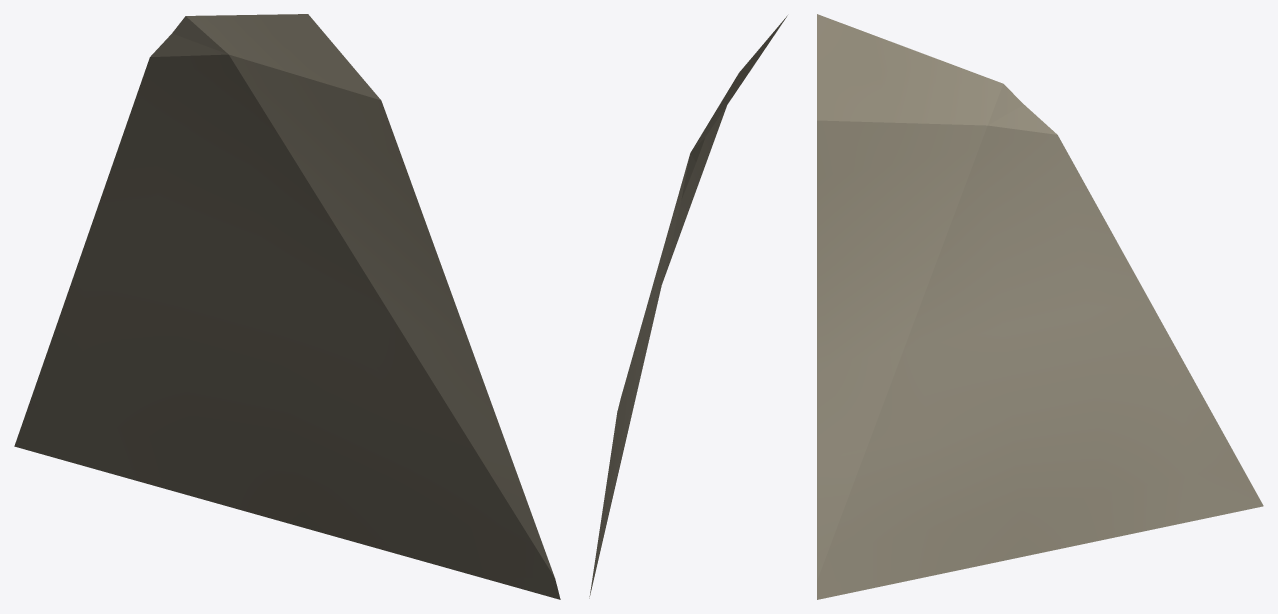
3 renders of one model, left to right at view 1: azimuth 30°, elevation 25°; view 2: azimuth 150°, elevation 25°; view 3: azimuth 270°, elevation 25°, orthographic. The views are drawn at different scales.
Bounding box in the file's own units: 0.054 × 0.1324 × 0.1089.
Materials: 1 (1 with a texture image).
